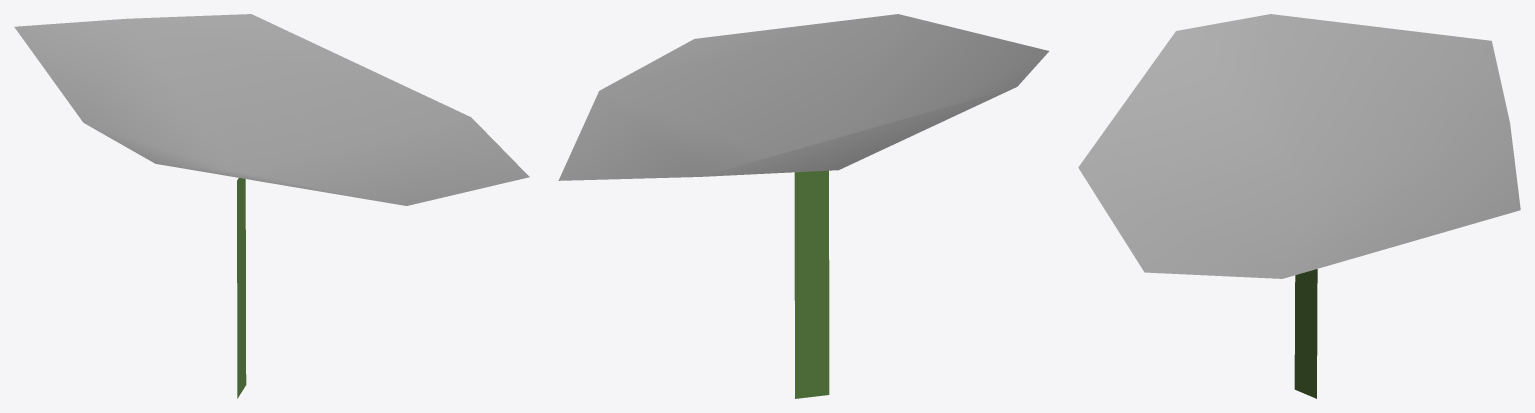
The model's file is Flower plane 1.fbx.
The picture shows the model from 3 angles, left to right: view 1: azimuth 30°, elevation 25°; view 2: azimuth 150°, elevation 25°; view 3: azimuth 270°, elevation 25°; orthographic projection. The views are drawn at different scales.
Visible parts, largest first — view 1: Flower_plane; view 2: Flower_plane; view 3: Flower_plane.
Part boxes in pixels (x1=…): Flower_plane: x1=14, y1=14, x2=529, y2=398; Flower_plane: x1=558, y1=14, x2=1049, y2=398; Flower_plane: x1=1078, y1=14, x2=1520, y2=398.
Bounding box in the file's own units: 1.9 × 1.5 × 2.
